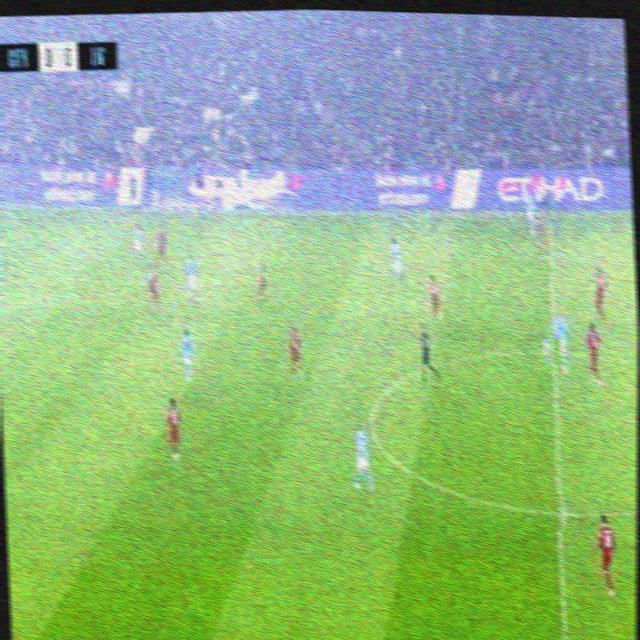bigarea_top_inner: (0, 258, 18, 289)
halfcircle_bottom: (543, 493, 574, 531)
halfcircle_top: (542, 337, 562, 366)
midline_top_intersection: (540, 213, 559, 236)
